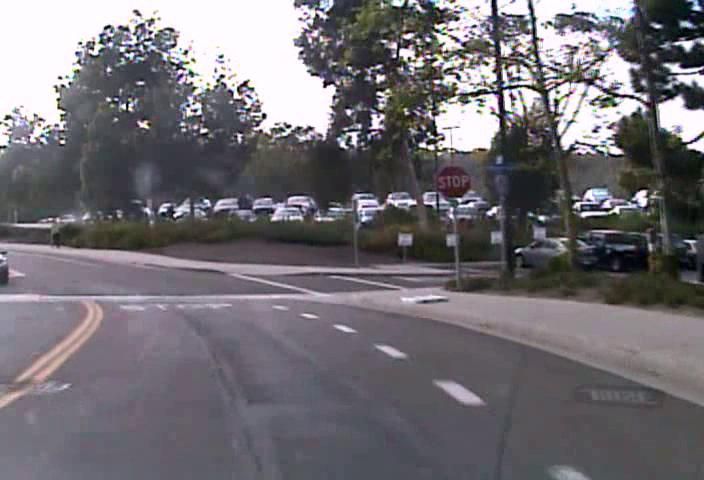stop: (434, 164, 472, 199)
